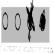correct: (38, 8, 46, 36)
not correct: (25, 0, 35, 42)
